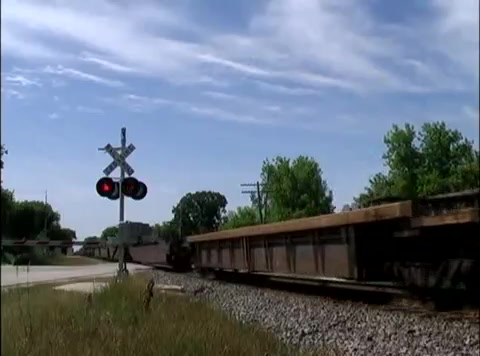train: (82, 189, 480, 307)
